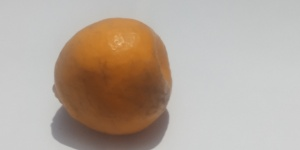BAD: (48, 15, 175, 139)
